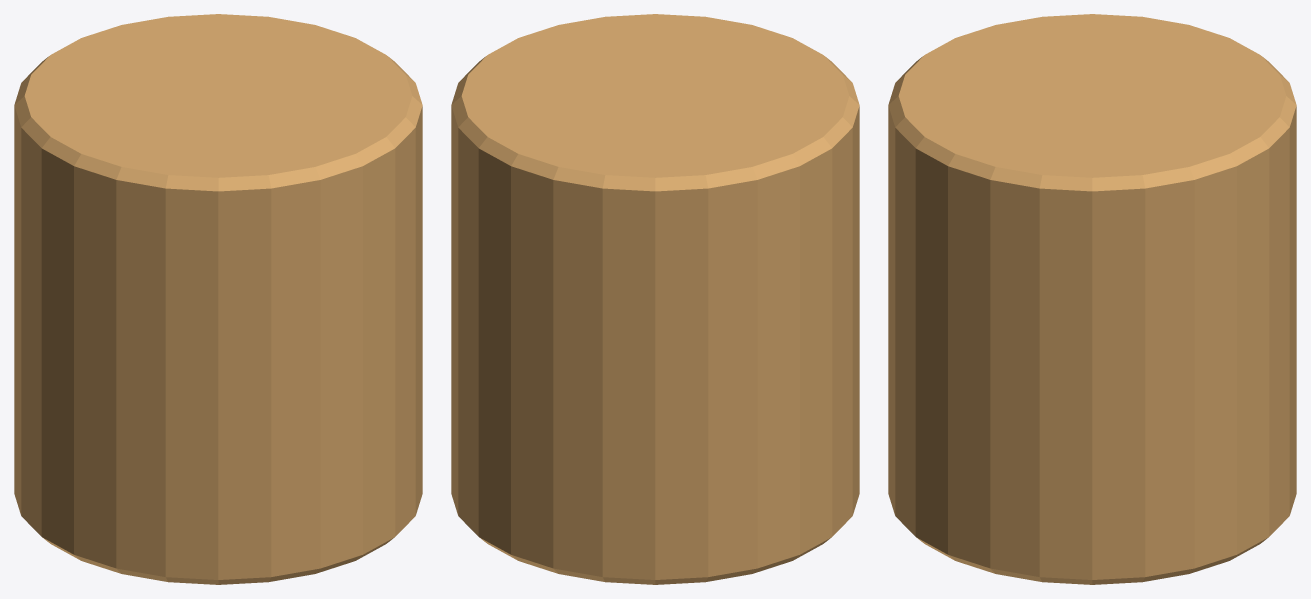
File: wall_round_pillar.glb
3 renders of one model, left to right at view 1: azimuth 30°, elevation 25°; view 2: azimuth 150°, elevation 25°; view 3: azimuth 270°, elevation 25°, orthographic.
Visible parts, largest first — view 1: Round beech pillar.001; view 2: Round beech pillar.001; view 3: Round beech pillar.001.
Part boxes in pixels (x1,y1,x2,y2): Round beech pillar.001: [14, 14, 422, 584]; Round beech pillar.001: [451, 14, 859, 584]; Round beech pillar.001: [888, 14, 1296, 584].
Bounding box in the file's own units: 1 × 1.1 × 1.
